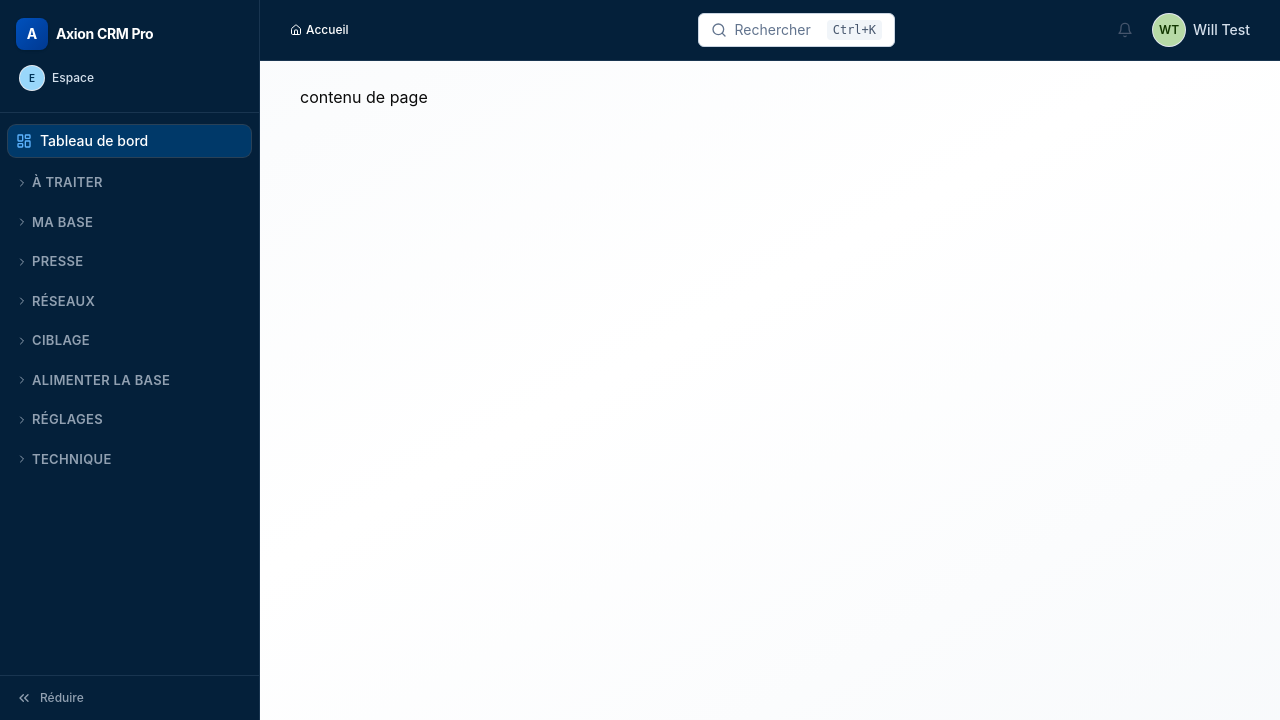
D24-002 — la cloche de l’en-tete ouvre un panneau reel › 200 + liste vide : le panneau dit qu’il n’y a rien
Click the button named "Notifications".
click(1125, 30)  # box [1111, 16, 1139, 44]
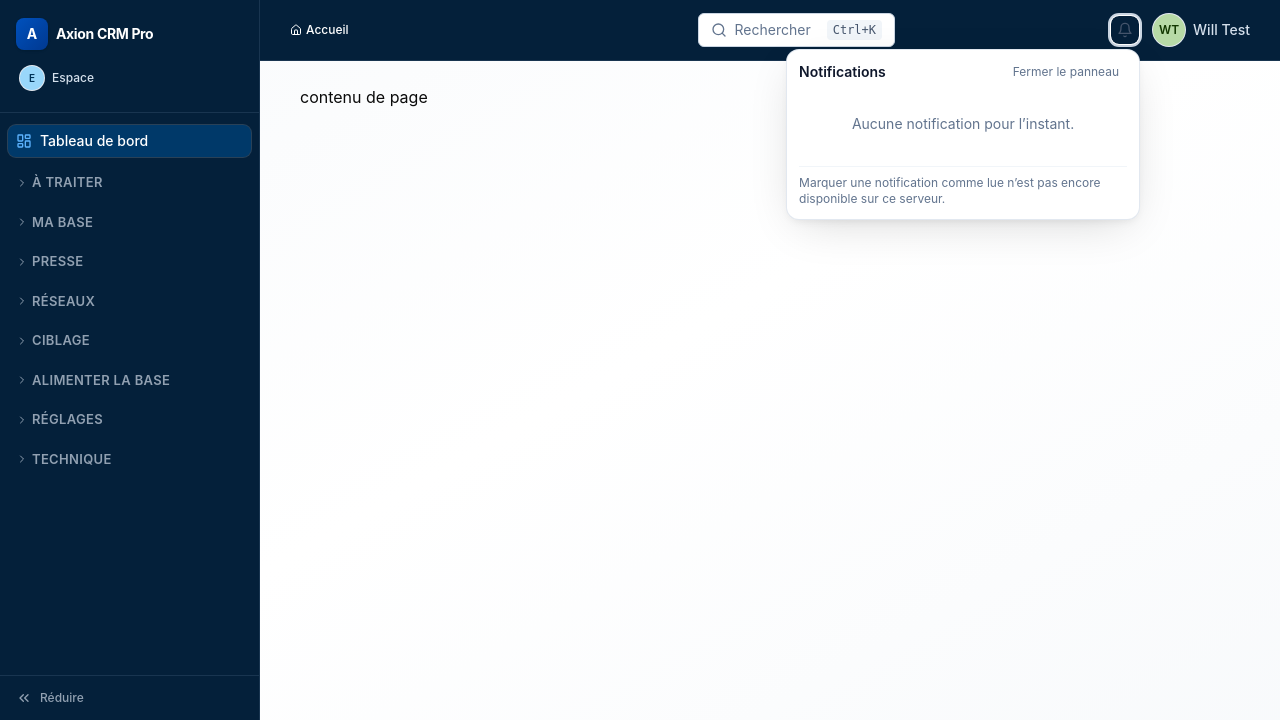
expect the text "Aucune notification" is shown: met, box [852, 115, 1074, 132]
